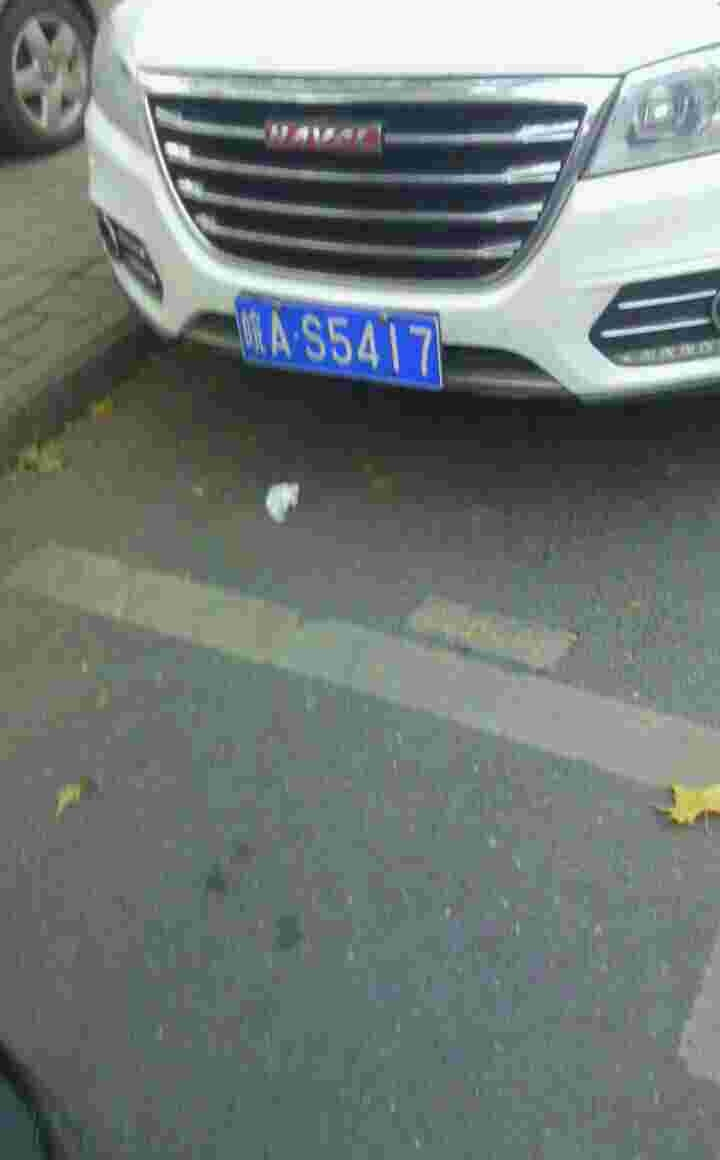plate: (230, 289, 449, 393)
